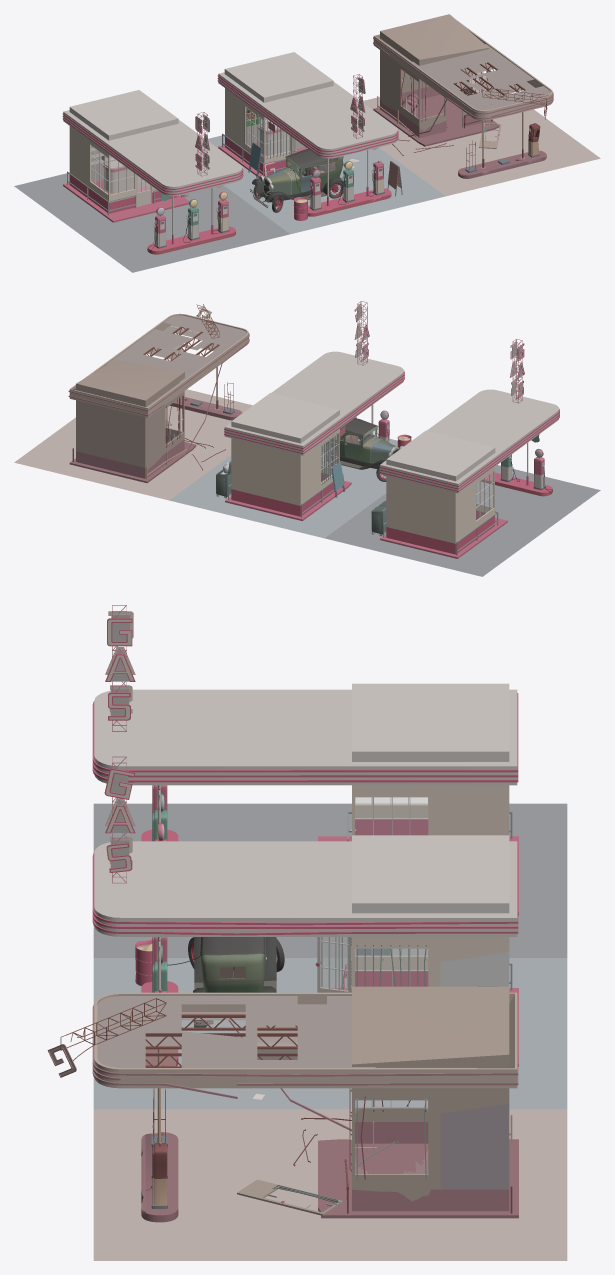
3 renders of one model, top to bottom at view 1: azimuth 30°, elevation 25°; view 2: azimuth 150°, elevation 25°; view 3: azimuth 270°, elevation 25°, orthographic. The views are drawn at different scales.
Parts seen in each view (by area): view 1: Mesh (11), Mesh (594), Mesh (2), Mesh (177), Mesh (419), Mesh (482), Mesh (644), Mesh (45), Mesh (294), Mesh (617), Mesh (173), Mesh (631) (+22 smaller); view 2: Mesh (11), Mesh (594), Mesh (177), Mesh (2), Mesh (617), Mesh (173), Mesh (419), Mesh_new_base_0, Mesh (482), Mesh (45), Mesh (294), Mesh (644) (+14 smaller); view 3: Mesh (594), Mesh (177), Mesh (2), Mesh (11), Mesh (419), Mesh (617), Mesh (482), Mesh (644), Mesh (45), Mesh (294), Mesh (631), Mesh (173) (+22 smaller).
Part boxes in pixels (<box>): Mesh (11): <box>14,173,289,272</box>; Mesh (594): <box>363,72,600,196</box>; Mesh (2): <box>63,110,242,196</box>; Mesh (177): <box>218,72,397,158</box>; Mesh (419): <box>208,134,445,234</box>; Mesh (482): <box>411,44,549,108</box>; Mesh (644): <box>380,14,488,65</box>; Mesh (45): <box>69,90,178,140</box>; Mesh (294): <box>224,52,333,102</box>; Mesh (617): <box>380,44,488,137</box>; Mesh (173): <box>225,88,307,175</box>; Mesh (631): <box>373,20,552,120</box>; Mesh (11): <box>324,465,600,576</box>; Mesh (594): <box>14,389,252,500</box>; Mesh (177): <box>224,351,403,455</box>; Mesh (2): <box>380,389,559,493</box>; Mesh (617): <box>76,388,184,478</box>; Mesh (173): <box>231,429,339,516</box>; Mesh (419): <box>169,435,397,538</box>; Mesh_new_base_0: <box>386,467,494,543</box>; Mesh (482): <box>106,318,244,388</box>; Mesh (45): <box>386,430,495,481</box>; Mesh (294): <box>231,392,339,443</box>; Mesh (644): <box>76,359,184,406</box>; Mesh (594): <box>93,1109,567,1260</box>; Mesh (177): <box>94,841,517,936</box>; Mesh (2): <box>94,689,517,785</box>; Mesh (11): <box>93,803,567,957</box>; Mesh (419): <box>93,958,567,1109</box>; Mesh (617): <box>352,1088,509,1211</box>; Mesh (482): <box>120,996,375,1067</box>; Mesh (644): <box>352,986,509,1068</box>; Mesh (45): <box>352,683,509,761</box>; Mesh (294): <box>352,835,509,913</box>; Mesh (631): <box>94,992,517,1088</box>; Mesh (173): <box>352,937,509,986</box>.
Bounding box in the file's own units: 1959 × 542 × 941.
